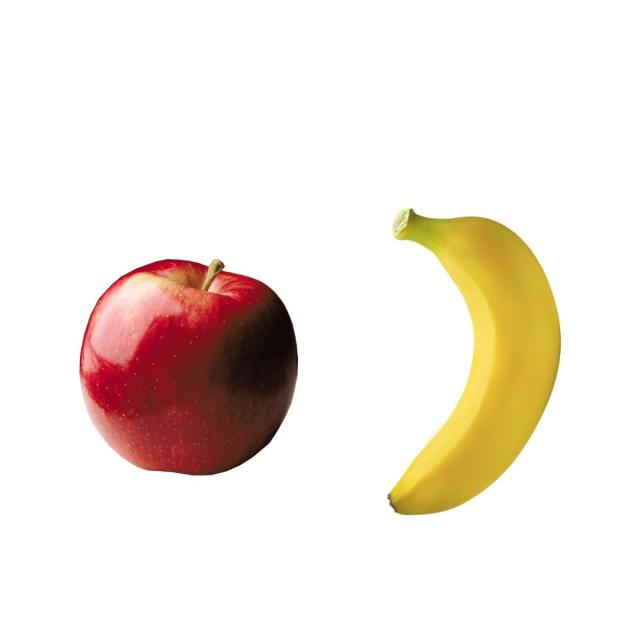Apel: (78, 257, 299, 475)
Pisang: (386, 206, 561, 516)
